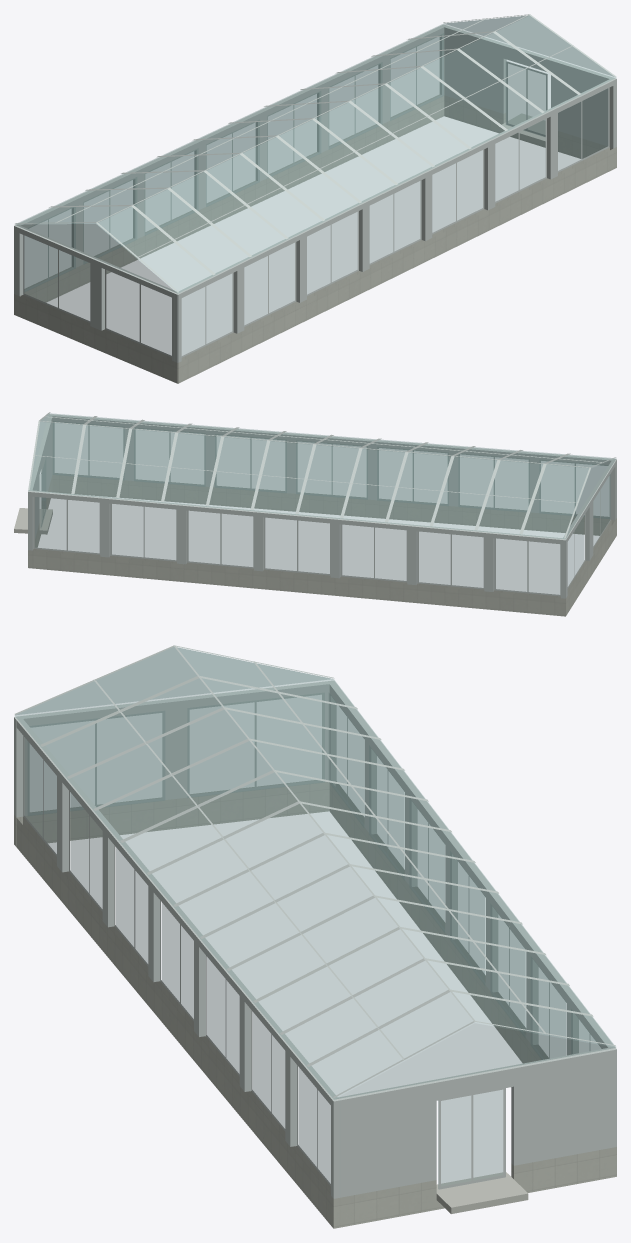
3 views of the same model, one above another, from view 1: azimuth 30°, elevation 25°; view 2: azimuth 150°, elevation 25°; view 3: azimuth 270°, elevation 25° (orthographic). The views are drawn at different scales.
Parts seen in each view (by area): view 1: greenhouse2__glass, greenhouse2__frame, greenhouse2__wall, greenhouse2__threshold-entry; view 2: greenhouse2__glass, greenhouse2__frame, greenhouse2__wall, greenhouse2__threshold-entry; view 3: greenhouse2__glass, greenhouse2__frame, greenhouse2__wall, greenhouse2__threshold-entry.
Part boxes in pixels (bbox=[...]): greenhouse2__glass: bbox=[15, 15, 616, 355]; greenhouse2__frame: bbox=[14, 14, 616, 362]; greenhouse2__wall: bbox=[14, 94, 616, 383]; greenhouse2__threshold-entry: bbox=[498, 113, 545, 145]; greenhouse2__glass: bbox=[28, 413, 615, 594]; greenhouse2__frame: bbox=[28, 412, 616, 598]; greenhouse2__wall: bbox=[28, 473, 616, 616]; greenhouse2__threshold-entry: bbox=[14, 508, 52, 534]; greenhouse2__glass: bbox=[15, 647, 615, 1188]; greenhouse2__frame: bbox=[14, 645, 616, 1198]; greenhouse2__wall: bbox=[14, 780, 616, 1228]; greenhouse2__threshold-entry: bbox=[436, 1172, 528, 1213].
Size of the model in its own units: 22.35 by 4.48 by 13.53.
4 materials, 1 textured.
